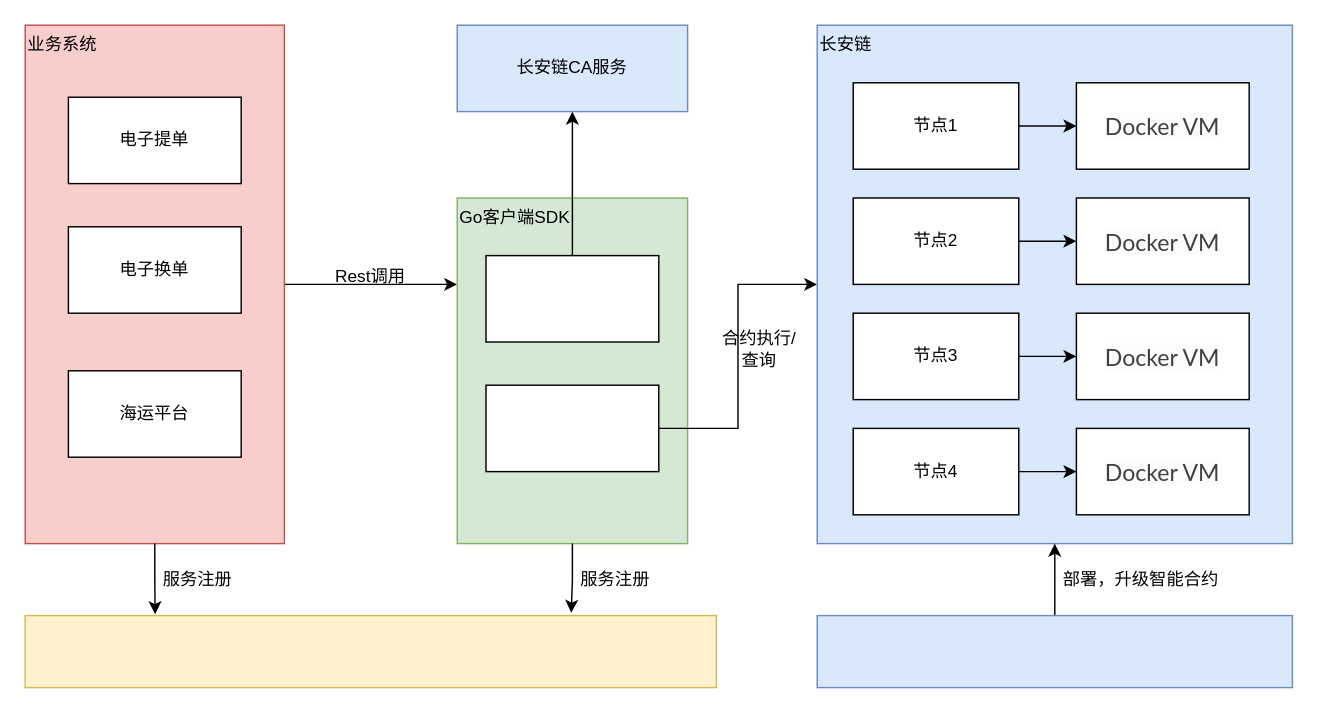
This 1318x713 diagram has some shape labels left out. The shapes that lost their labels are listed below. From the top down, each one's centre as x and y in pixels, then its label:
(572,298): CA认证相关
(572,428): 区块链调用
(370,651): Nacos
(1054,651): CMC工具
